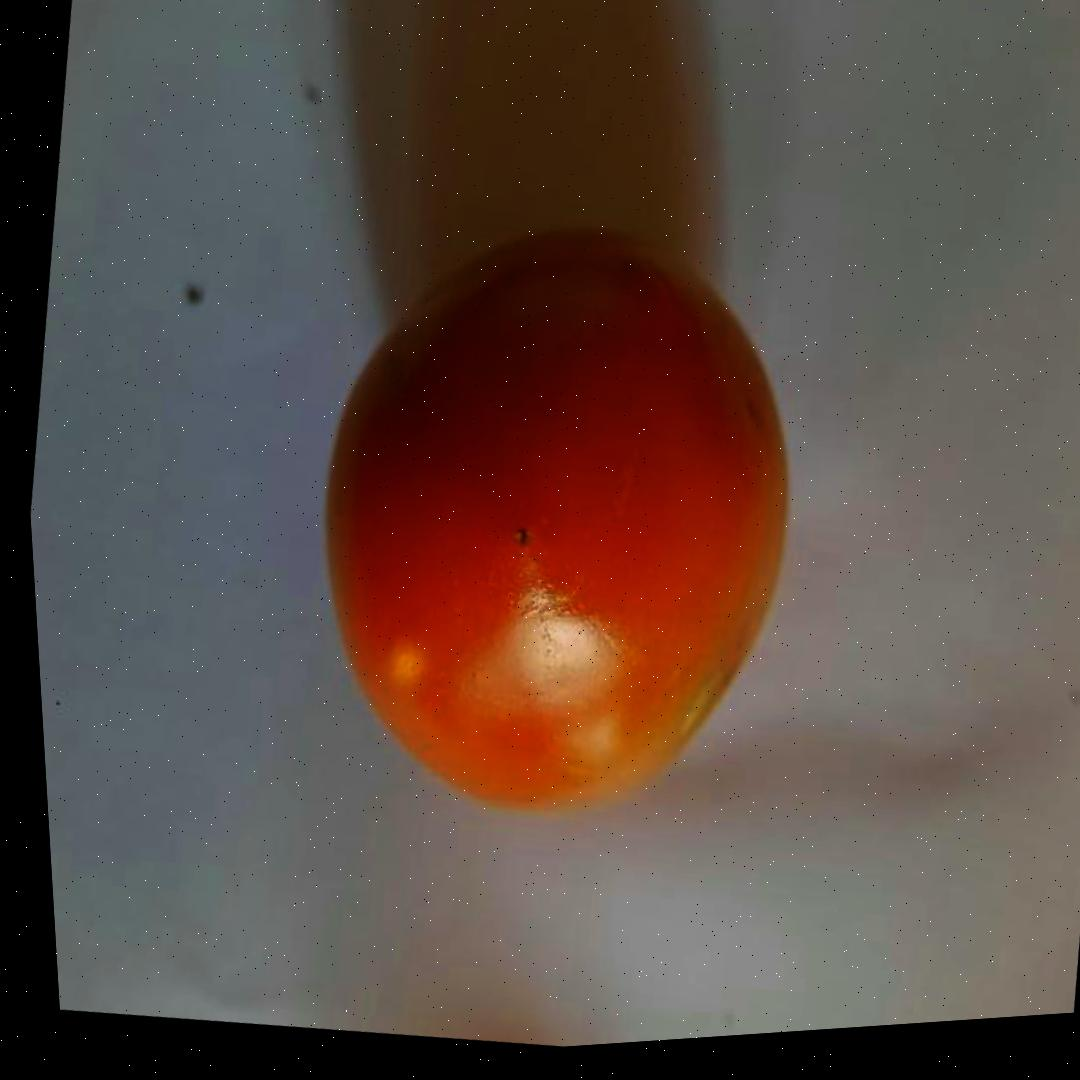matang: (259, 176, 847, 863)
